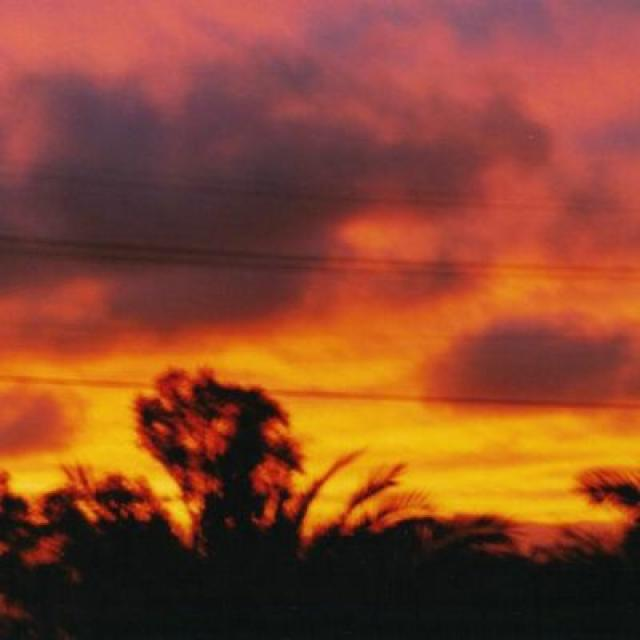St: (1, 23, 640, 359)
